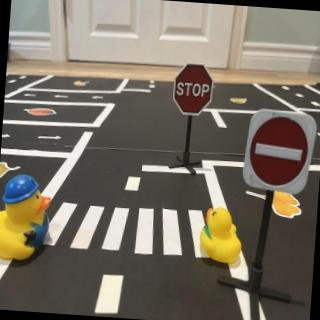duck_regular: (198, 207, 247, 267)
duck_specialty: (1, 172, 55, 266)
road_crosswalk: (40, 195, 221, 263)
road_oneway: (38, 133, 64, 144), (53, 93, 71, 101), (2, 131, 13, 142), (22, 93, 38, 100), (90, 96, 108, 101)
sign_noentry: (241, 109, 319, 197)
sign_stop: (172, 63, 214, 118)
